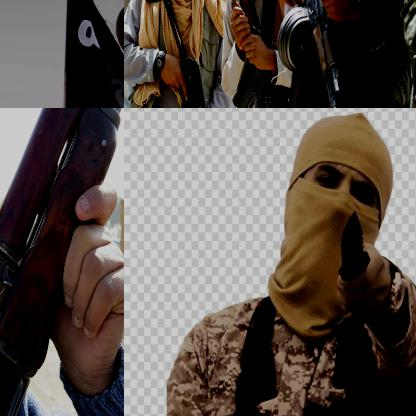knife: (330, 208, 378, 297)
rifle: (0, 108, 123, 415), (279, 0, 354, 107), (146, 0, 221, 107), (226, 9, 280, 107)
